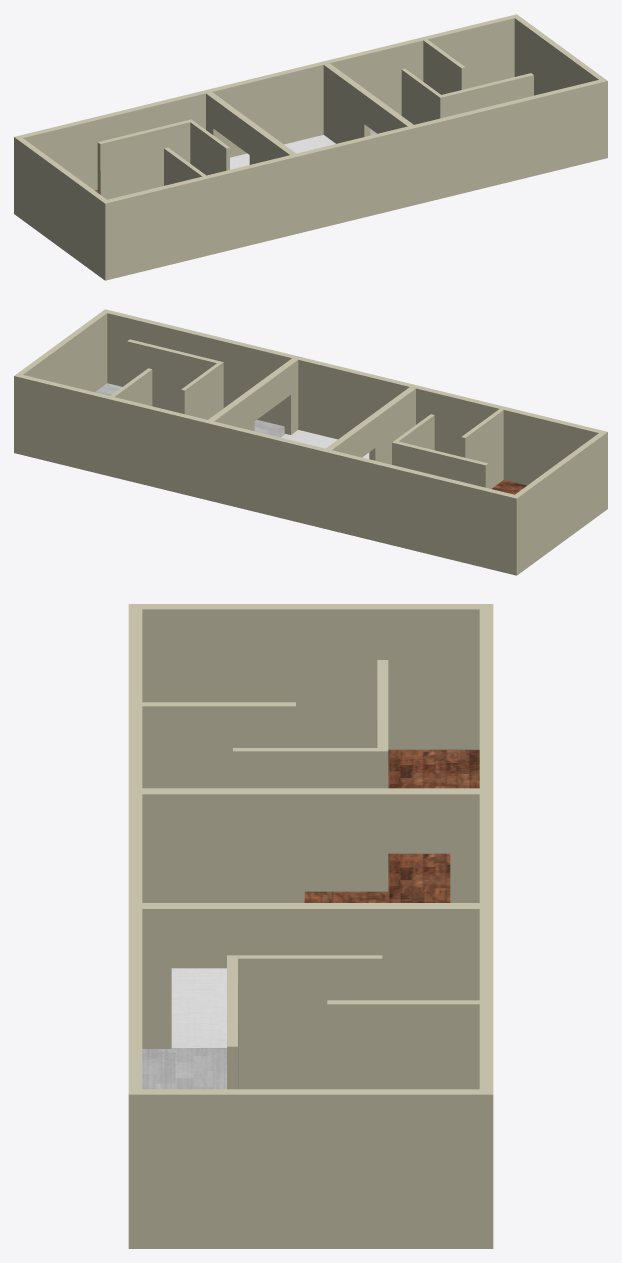
File: interior.fbx
3 renders of one model, top to bottom at view 1: azimuth 30°, elevation 25°; view 2: azimuth 150°, elevation 25°; view 3: azimuth 270°, elevation 25°, orthographic. The views are drawn at different scales.
Parts seen in each view (by area): view 1: Cube.008; view 2: Cube.008; view 3: Cube.008.
Part boxes in pixels (x1,y1,x2,y2): Cube.008: (14, 14, 607, 280); Cube.008: (14, 309, 607, 575); Cube.008: (128, 604, 493, 1248).
Size of the model in its own units: 24808 by 3634 by 7794.
4 materials, 2 textured.
